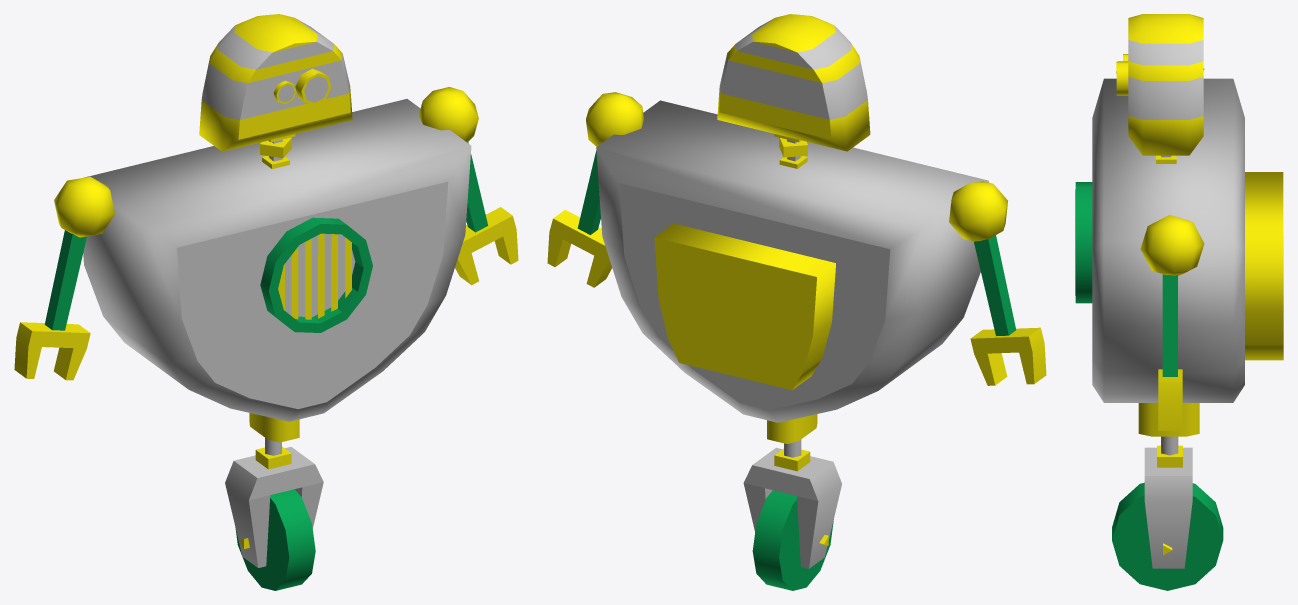
The model's file is robot_04_mesh.FBX.
The picture shows the model from 3 angles, left to right: view 1: azimuth 30°, elevation 25°; view 2: azimuth 150°, elevation 25°; view 3: azimuth 270°, elevation 25°; orthographic projection.
Visible parts, largest first — view 1: robot_04_body_mesh, robot_04_head_mesh, robot_04_right_arm_mesh, robot_04_left_arm_mesh, robot_04_whell_01_mesh; view 2: robot_04_body_mesh, robot_04_head_mesh, robot_04_right_arm_mesh, robot_04_left_arm_mesh, robot_04_whell_01_mesh; view 3: robot_04_body_mesh, robot_04_head_mesh, robot_04_whell_01_mesh, robot_04_left_arm_mesh.
Part boxes in pixels (x1,y1,x2,y2): robot_04_body_mesh: (83, 99, 471, 567); robot_04_head_mesh: (199, 14, 352, 151); robot_04_right_arm_mesh: (14, 176, 114, 380); robot_04_left_arm_mesh: (419, 87, 518, 285); robot_04_whell_01_mesh: (235, 489, 315, 590); robot_04_body_mesh: (596, 100, 988, 568); robot_04_head_mesh: (717, 14, 870, 151); robot_04_right_arm_mesh: (949, 181, 1046, 385); robot_04_left_arm_mesh: (547, 92, 643, 287); robot_04_whell_01_mesh: (752, 490, 833, 590); robot_04_body_mesh: (1075, 78, 1283, 568); robot_04_head_mesh: (1116, 14, 1203, 155); robot_04_whell_01_mesh: (1112, 482, 1223, 590); robot_04_left_arm_mesh: (1140, 215, 1204, 430).
Size of the model in its own units: 159 by 174 by 57.85.
